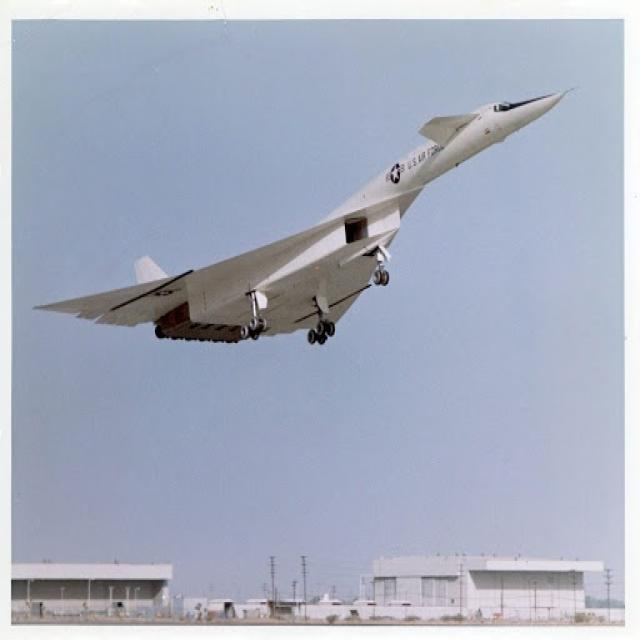MIL_Plane: (31, 0, 579, 233)
